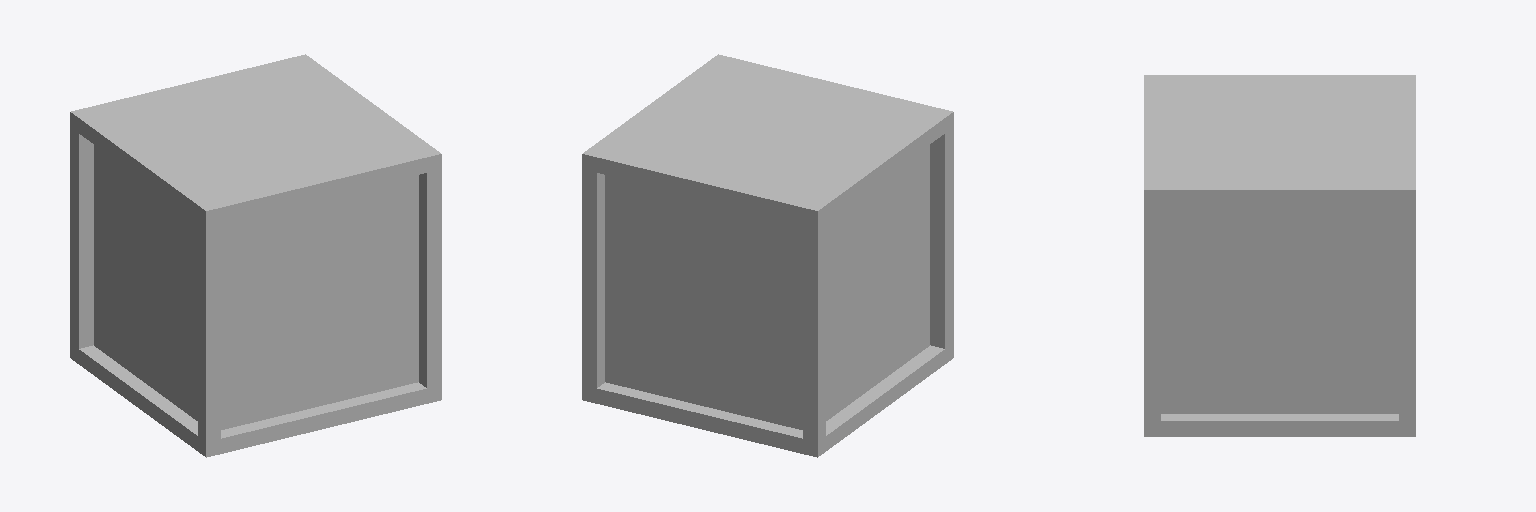
The model's file is eleSingleConsole.obj.
3 views of the same model, side by side, from view 1: azimuth 30°, elevation 25°; view 2: azimuth 150°, elevation 25°; view 3: azimuth 270°, elevation 25° (orthographic).
Bounding box in the file's own units: 1.99 × 1.99 × 1.99.